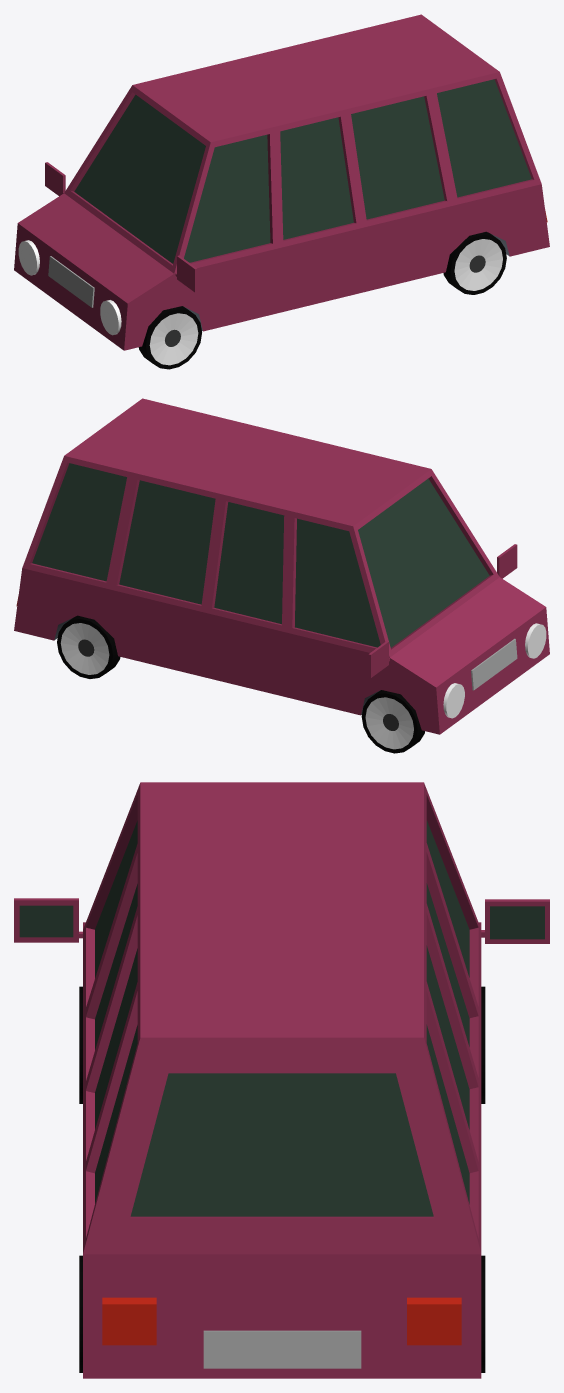
File: car3D.FBX
3 renders of one model, top to bottom at view 1: azimuth 30°, elevation 25°; view 2: azimuth 150°, elevation 25°; view 3: azimuth 270°, elevation 25°, orthographic. The views are drawn at different scales.
Visible parts, largest first — view 1: car3D; view 2: car3D; view 3: car3D.
Part boxes in pixels (x1,y1,x2,y2): car3D: [14, 14, 549, 369]; car3D: [14, 398, 549, 753]; car3D: [14, 782, 549, 1378].
Size of the model in its own units: 12.5 by 5.57 by 7.46.
